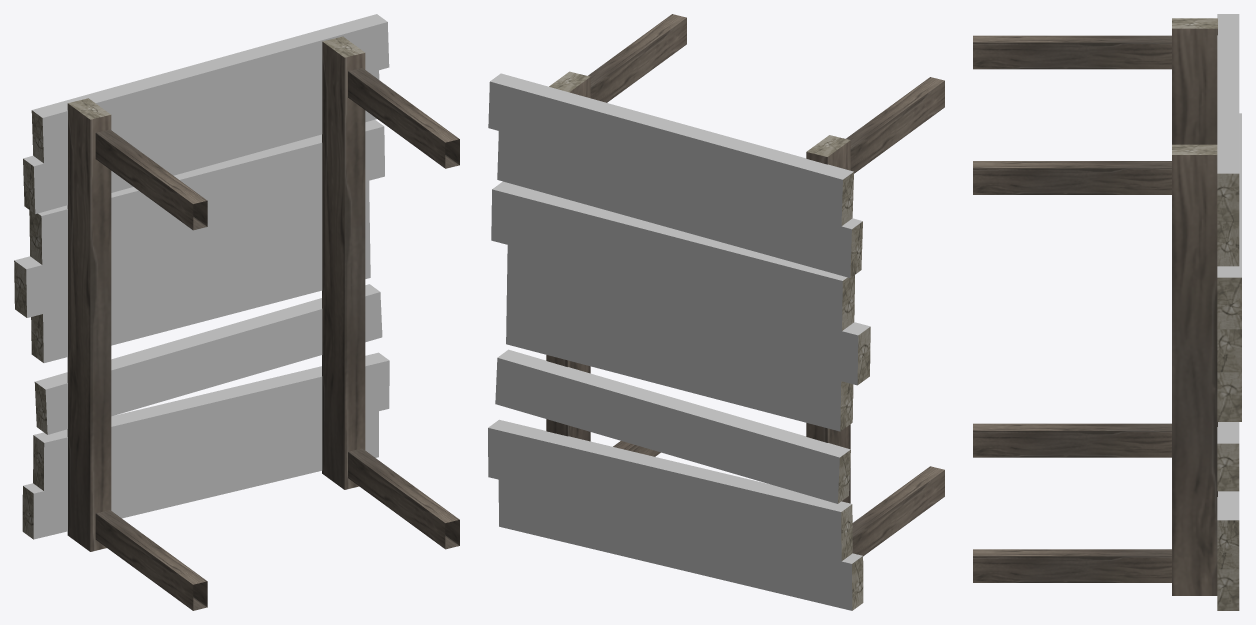
Rendered from Deck_A.fbx.
3 renders of one model, left to right at view 1: azimuth 30°, elevation 25°; view 2: azimuth 150°, elevation 25°; view 3: azimuth 270°, elevation 25°, orthographic. The views are drawn at different scales.
Visible parts, largest first — view 1: Deck_A; view 2: Deck_A; view 3: Deck_A.
Boxes of the visible parts, <box> form: Deck_A: <box>14,14,459,610</box>; Deck_A: <box>488,14,944,610</box>; Deck_A: <box>973,14,1241,610</box>.
Size of the model in its own units: 3.53 by 4.05 by 2.22.
